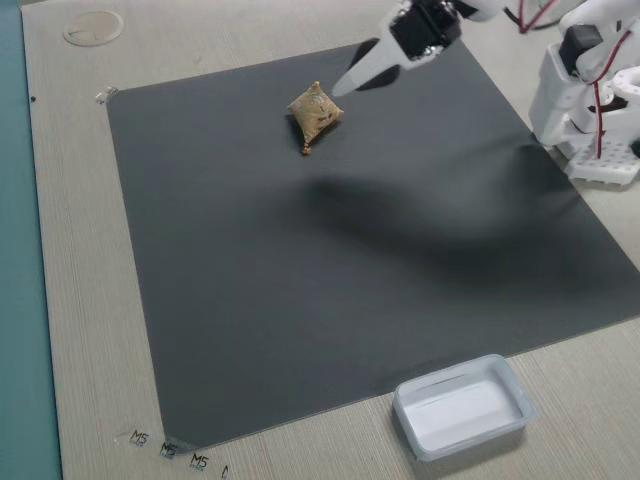gripper: (333, 0, 463, 111)
